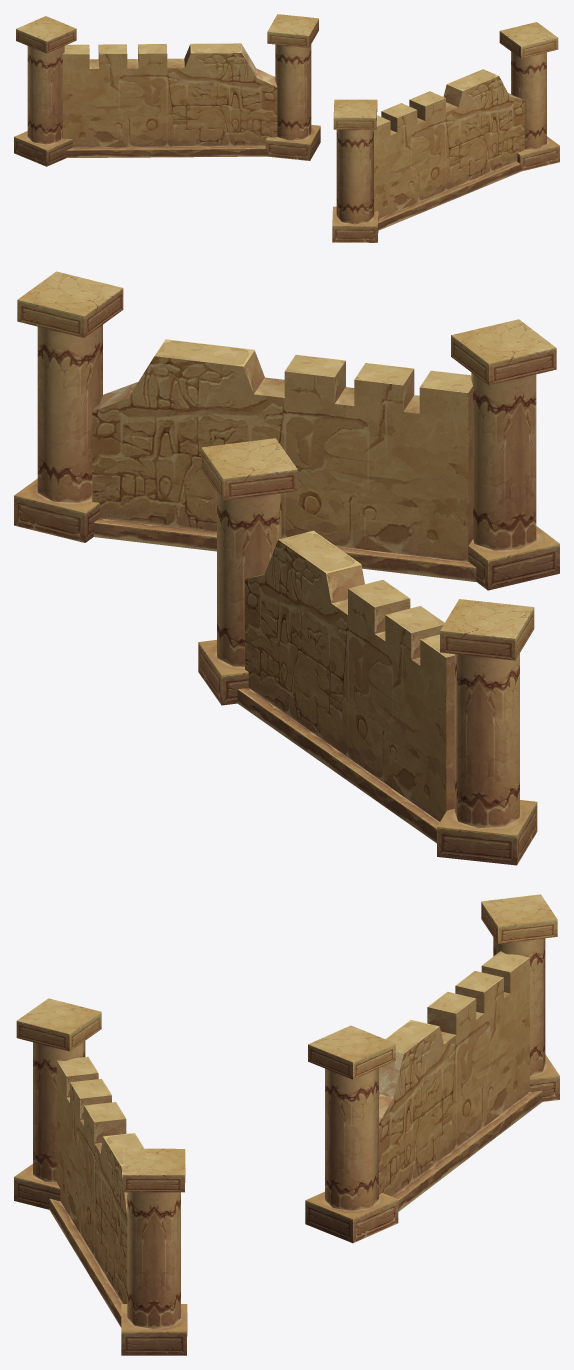
Rendered from Area_12_4.fbx.
The picture shows the model from 3 angles, top to bottom: view 1: azimuth 30°, elevation 25°; view 2: azimuth 150°, elevation 25°; view 3: azimuth 270°, elevation 25°; orthographic projection. The views are drawn at different scales.
Parts seen in each view (by area): view 1: Area_12_4; view 2: Area_12_4; view 3: Area_12_4.
Part boxes in pixels (bbox=[...]): Area_12_4: bbox=[14, 14, 559, 242]; Area_12_4: bbox=[14, 271, 559, 865]; Area_12_4: bbox=[14, 894, 559, 1355].
Bounding box in the file's own units: 1380 × 409 × 1127.
